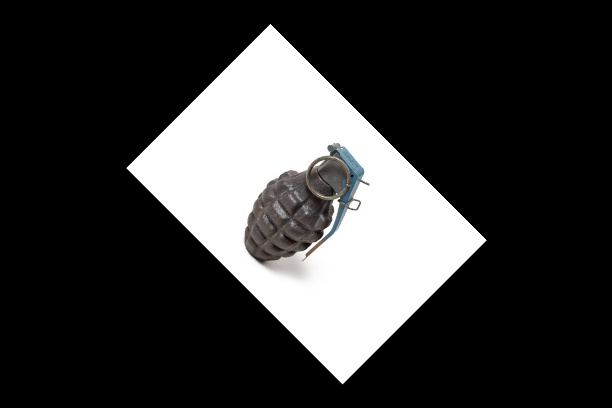e1: (240, 136, 373, 273)
